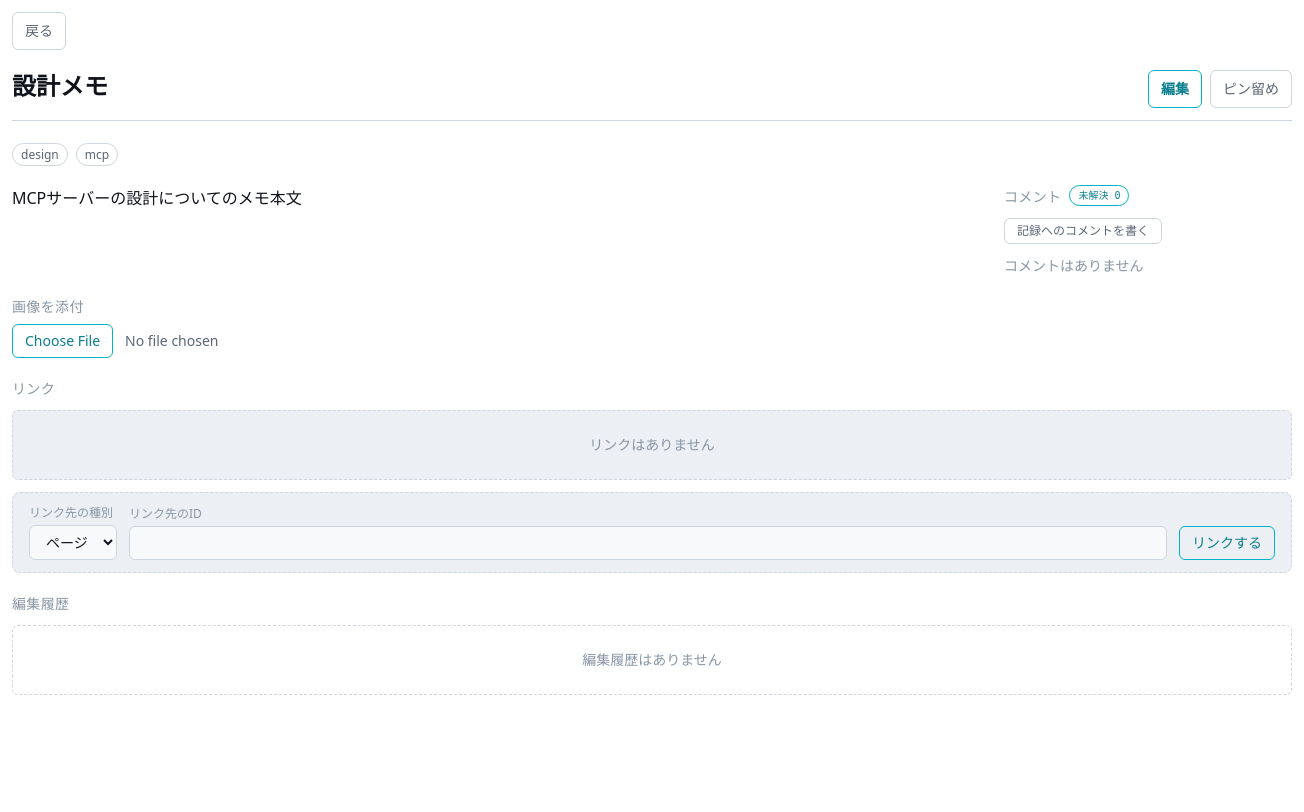
Test: NoteDetail の編集 › 保存に失敗したらエラーメッセージを表示し編集内容を保つ
Check: the heading "設計メモ" is shown, box [12, 70, 108, 100]
Click the button "編集": (1175, 89) [1148, 70, 1202, 108]
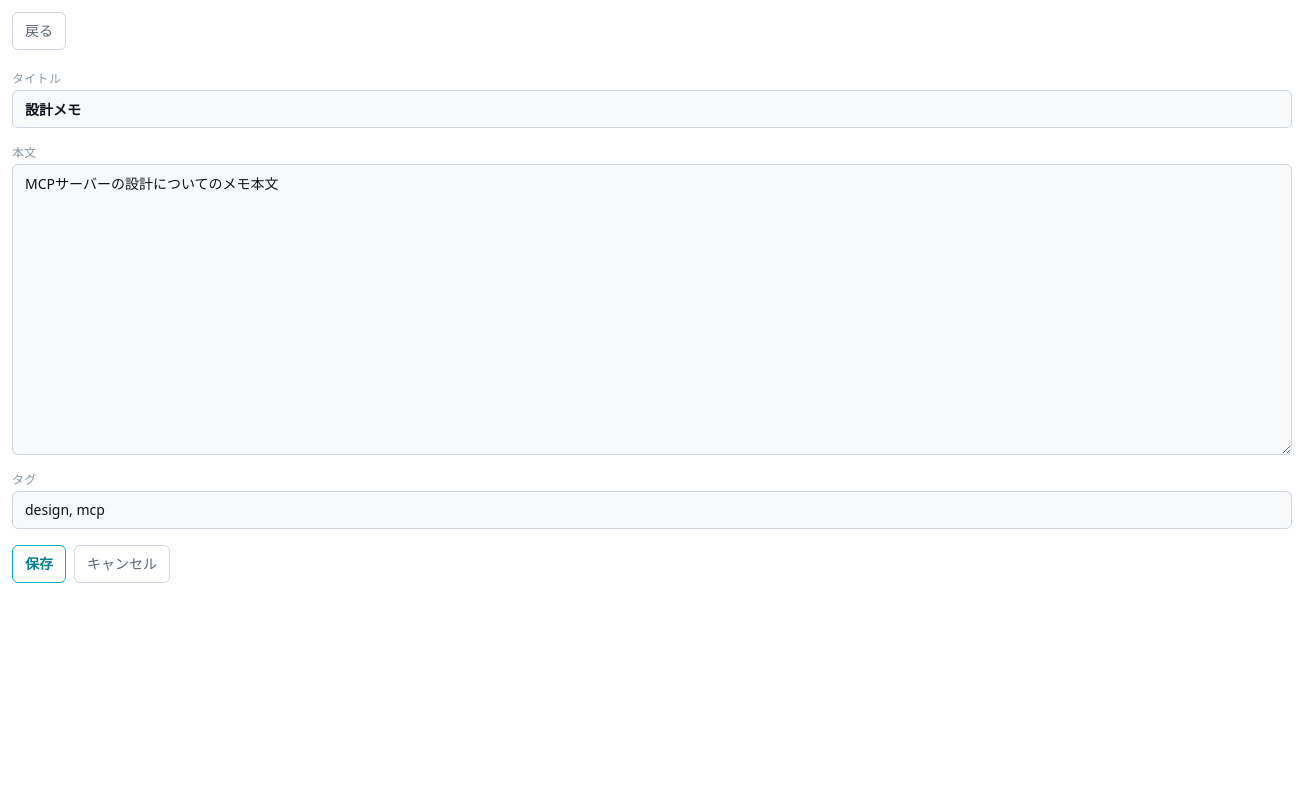
Replace the text in the field labelled "タイトル" with "改訂版": (652, 109) [12, 90, 1292, 128]
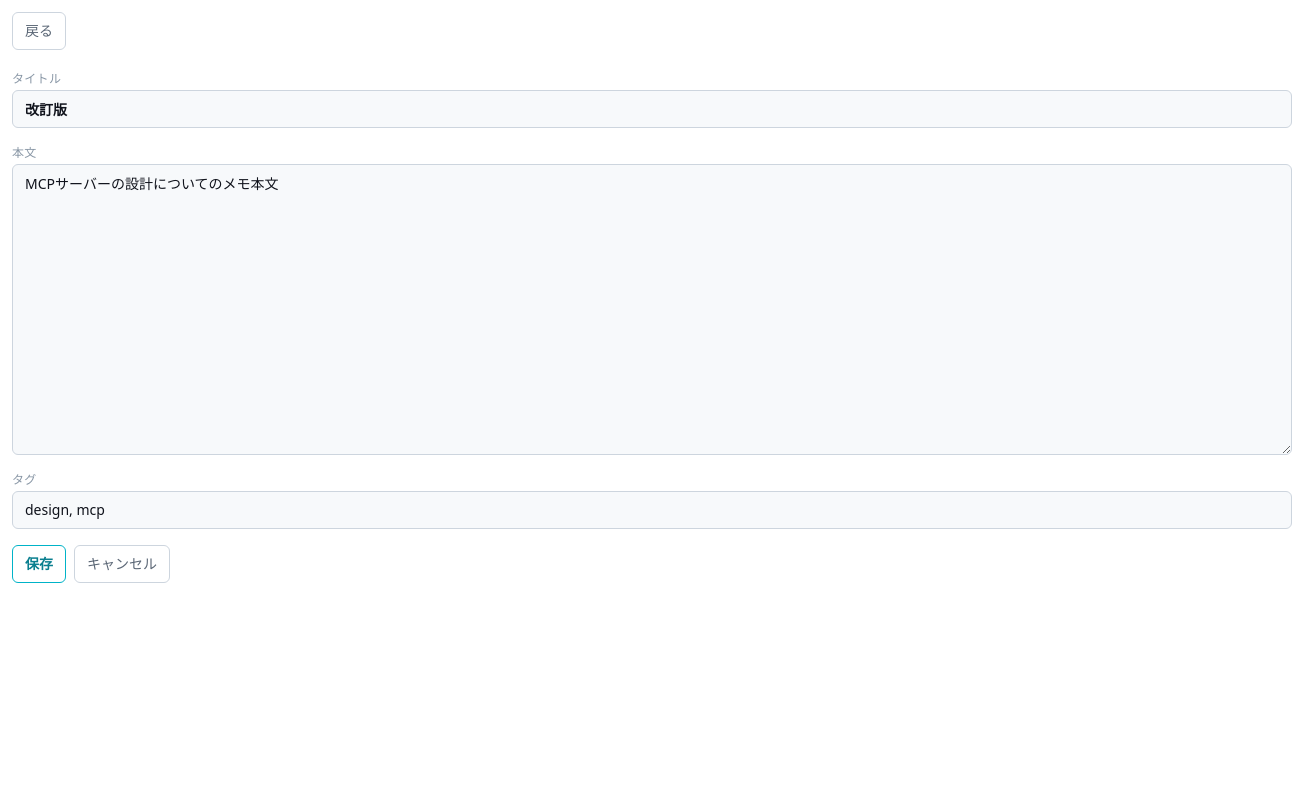
Click the button "保存": (39, 564) [12, 545, 66, 583]
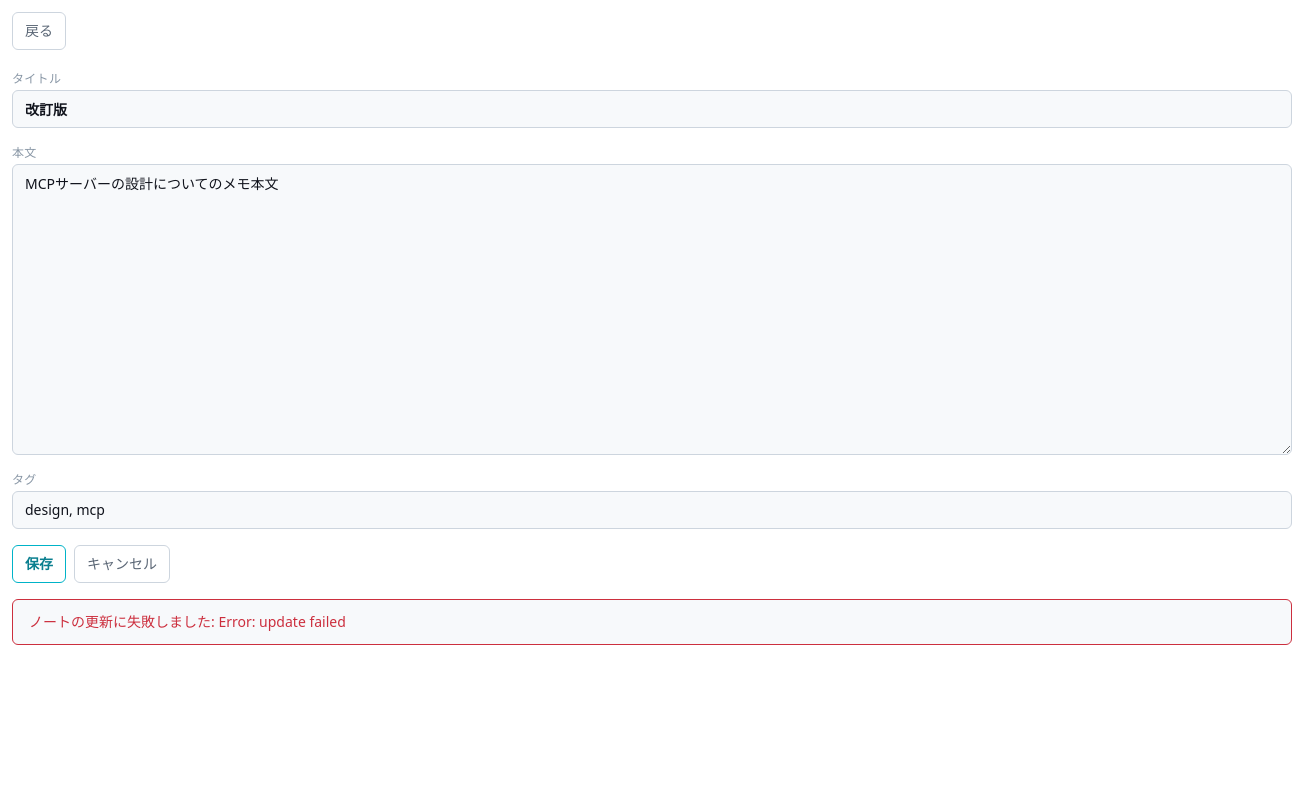
Check: the message shows "update failed", box [29, 612, 346, 631]
